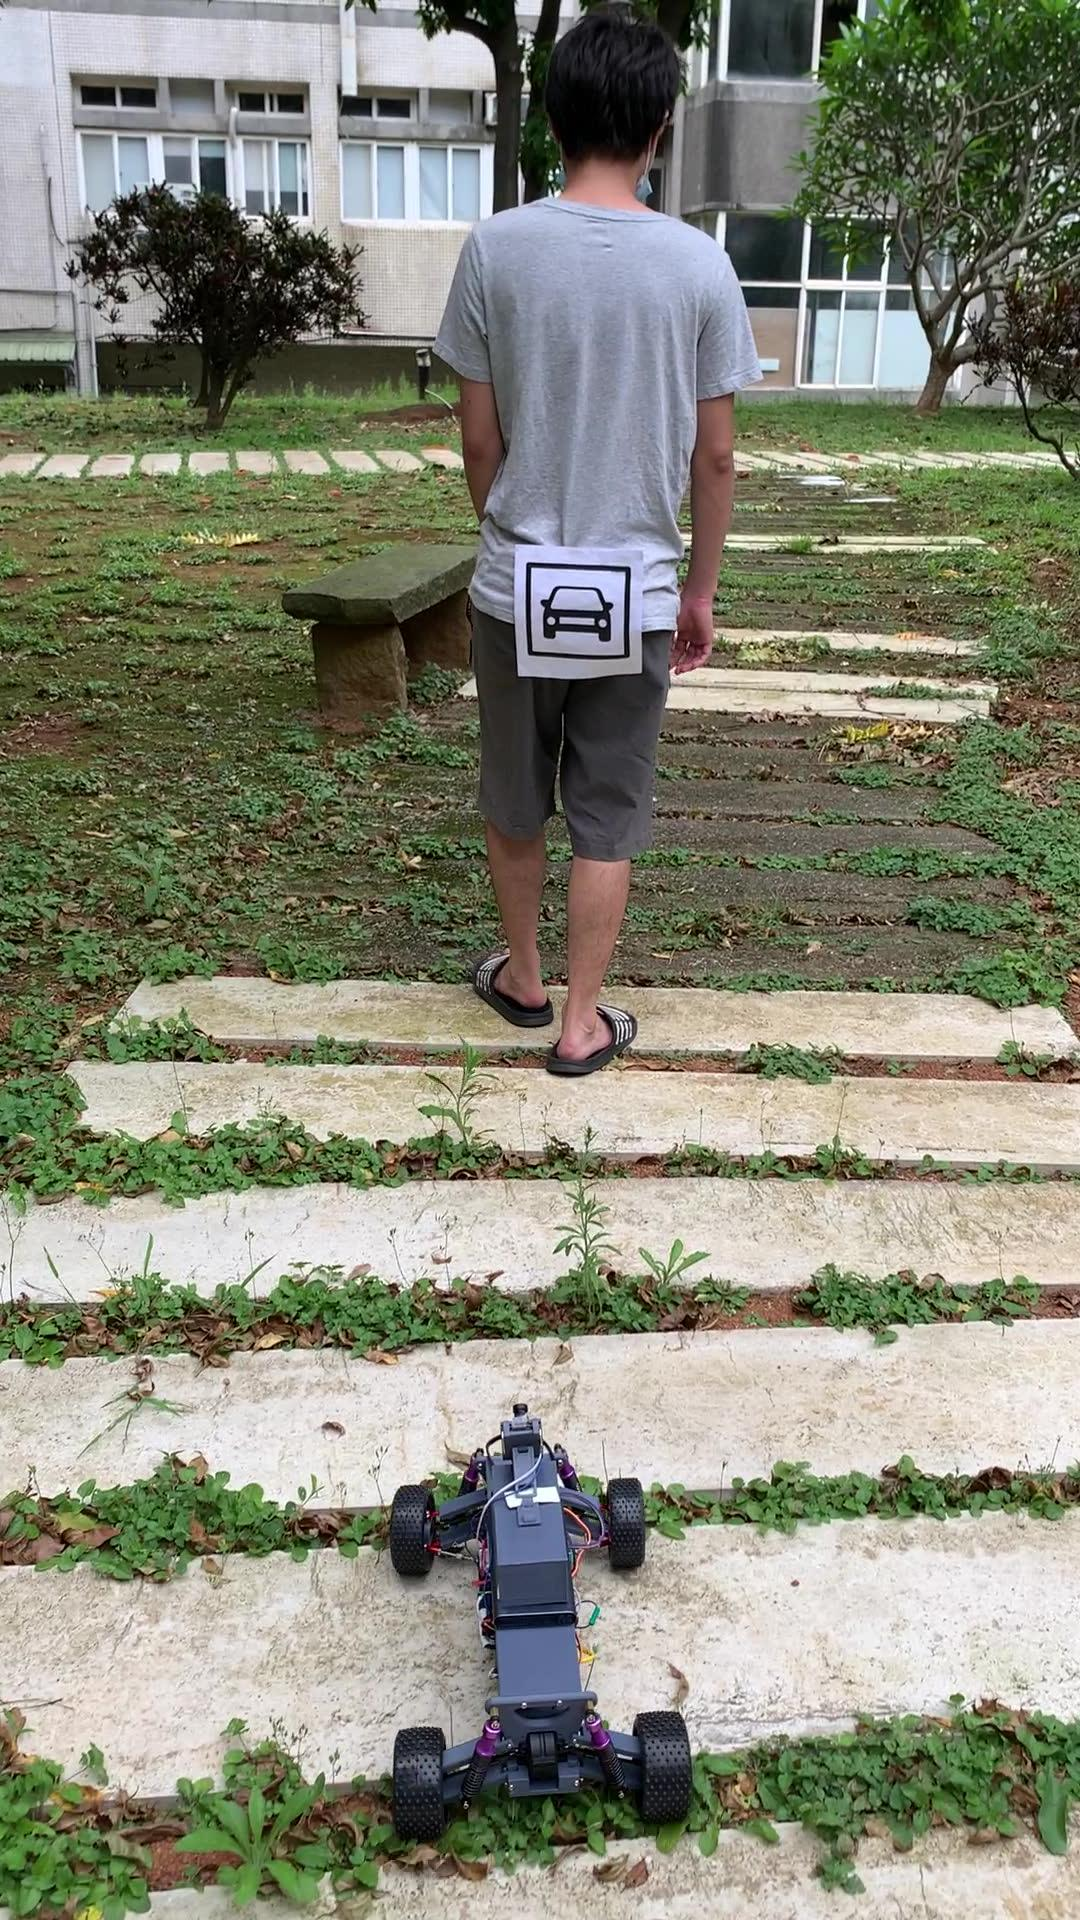car_img: (525, 562, 632, 659)
